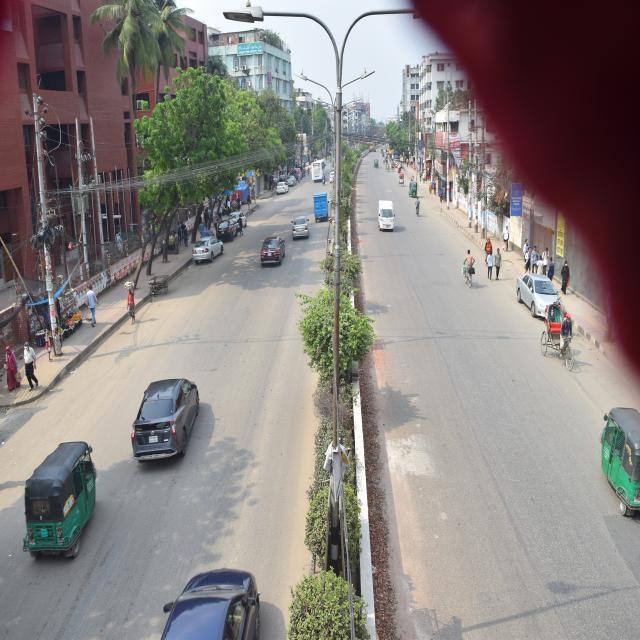bus: (310, 134, 328, 182)
car: (132, 369, 192, 456), (514, 266, 563, 335), (189, 230, 226, 260), (261, 236, 287, 272), (219, 212, 240, 245)
pickup-van: (371, 200, 403, 241)
